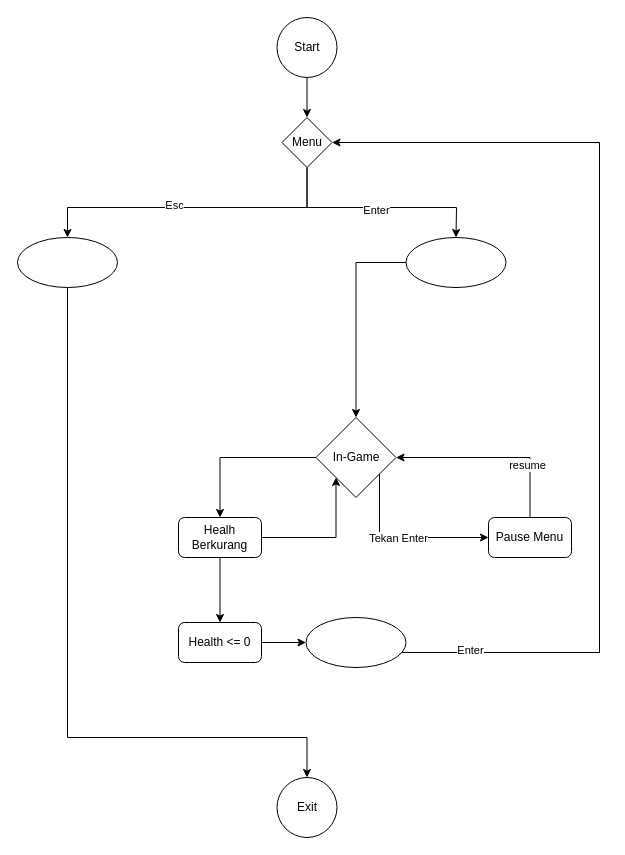
Some shapes in this 625 by 855 pixel diagram are drawn without their labels. Each missing label, with the centre of its shape:
"Game Exit" goes at [67,262].
"Game Over" goes at [355,642].
"Game Start" goes at [455,262].
